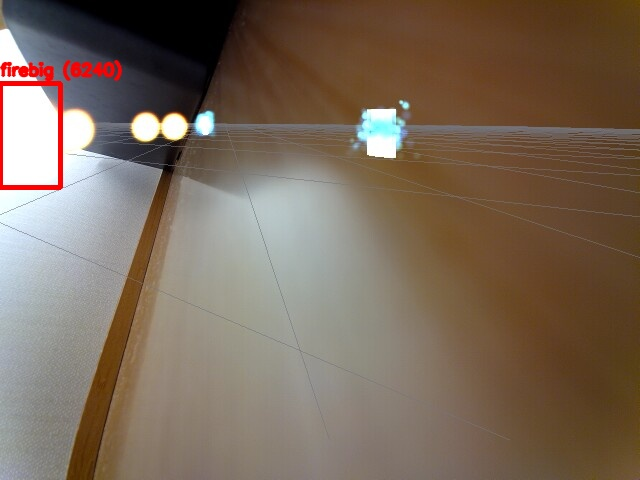firebig: (0, 83, 60, 187)
